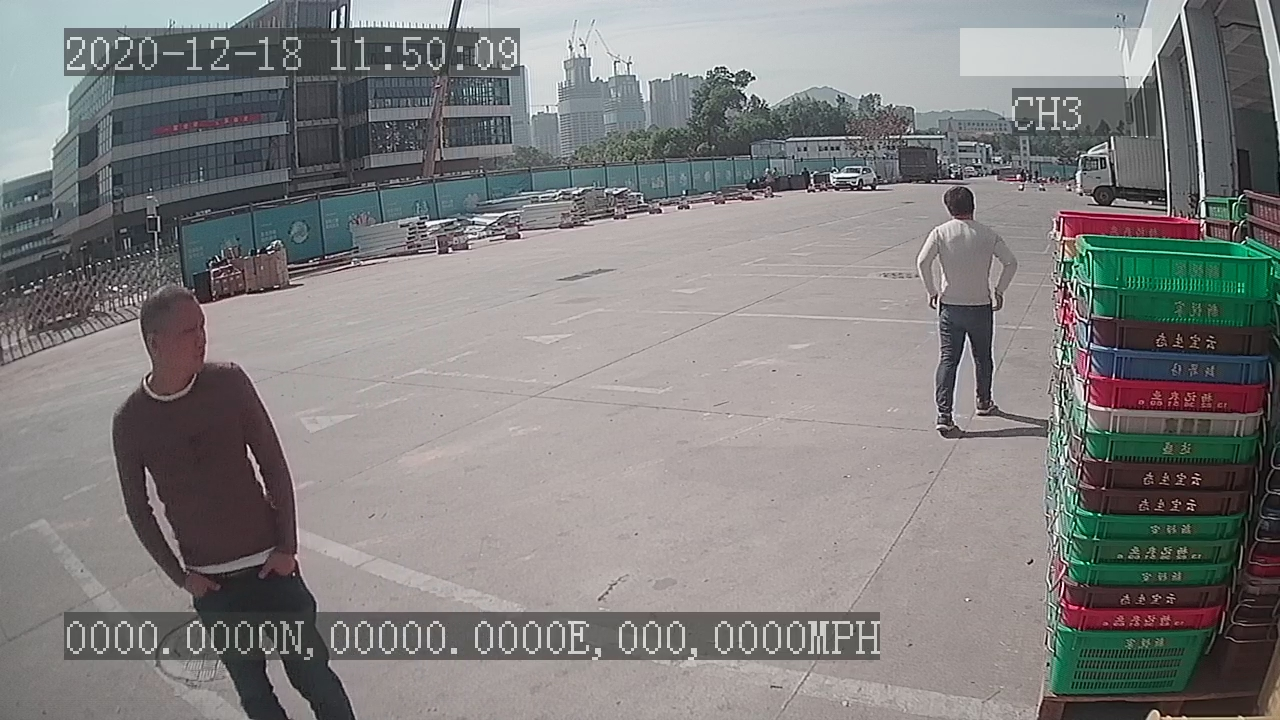person: (908, 181, 1024, 436)
